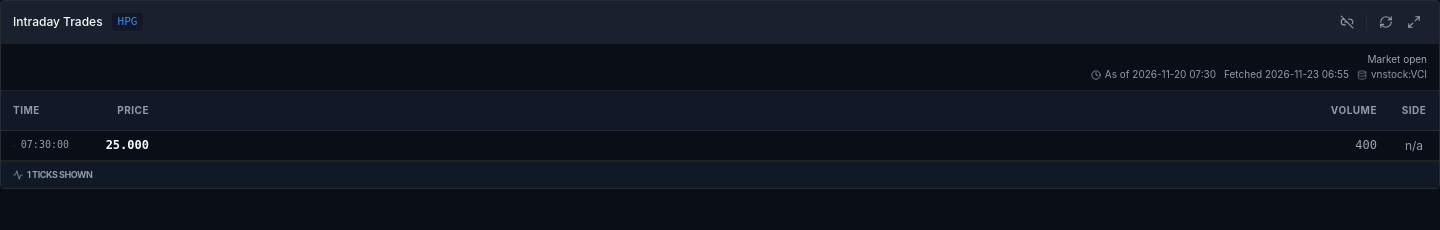
Test: keeps dated tape rows and the failure in export after an HTTP-success timeout
Check: the text "1 ticks shown" is shown, box [13, 168, 92, 182]
Step 1. Click the button titled "Refresh" → (1386, 22), box [1373, 9, 1399, 35]
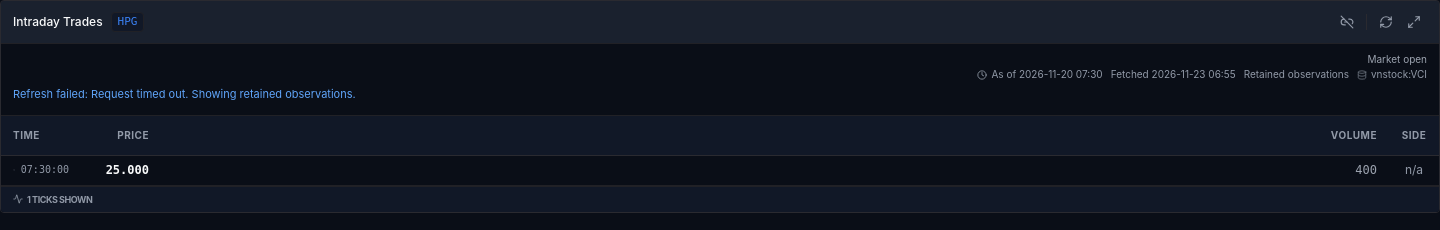
Check: the text "1 ticks shown" is shown, box [13, 192, 92, 206]
Check: the message shows "Refresh failed: Request timed out", box [13, 87, 356, 101]
